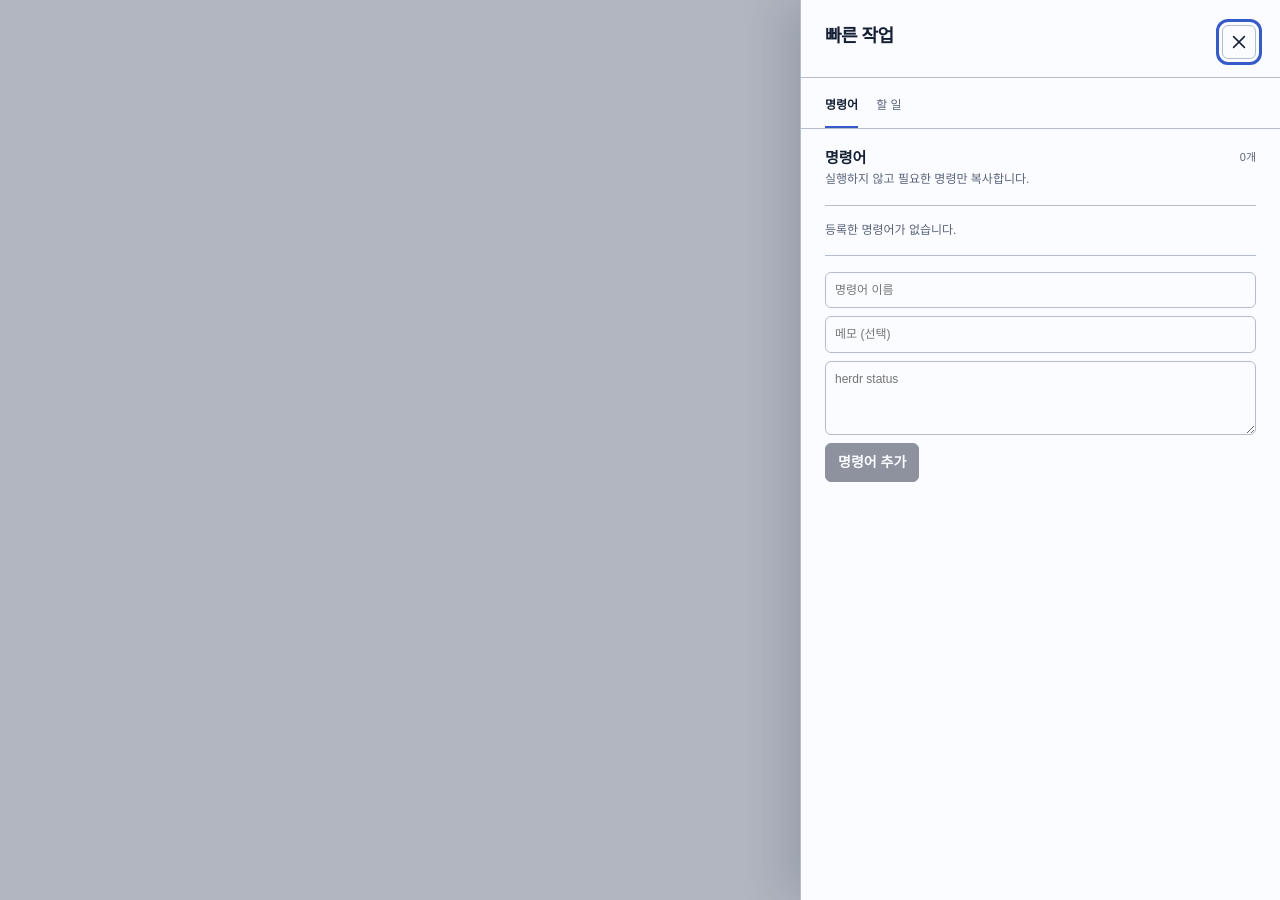
GlobalToolboxDrawer › preserves draft input and committed data when save fails
Type "보존할 초안" into the field labelled "명령어 이름" at (1040, 290), box [825,272,1256,308]
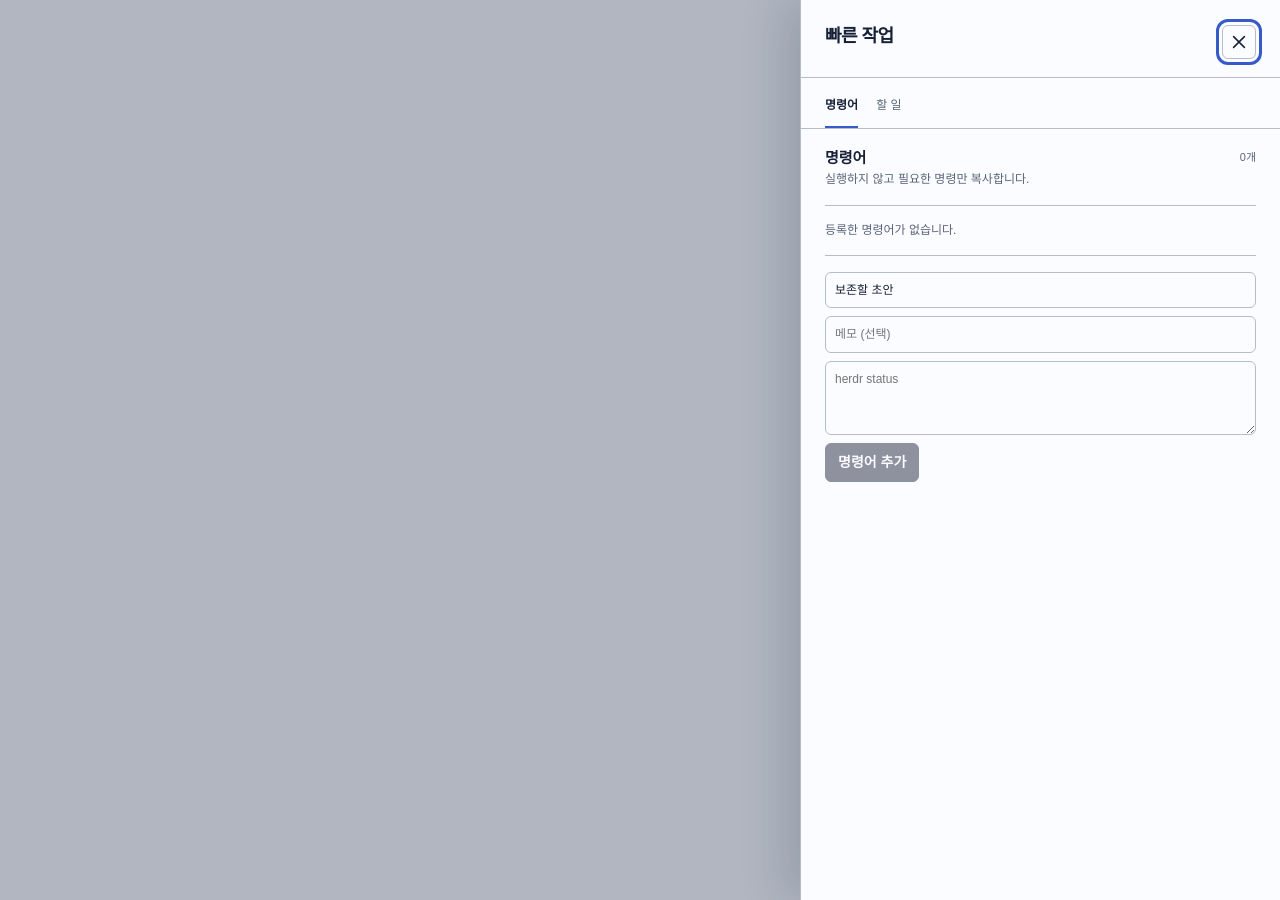
Type "echo keep" into the text box named "명령어 내용" at (1040, 398), box [825,361,1256,434]
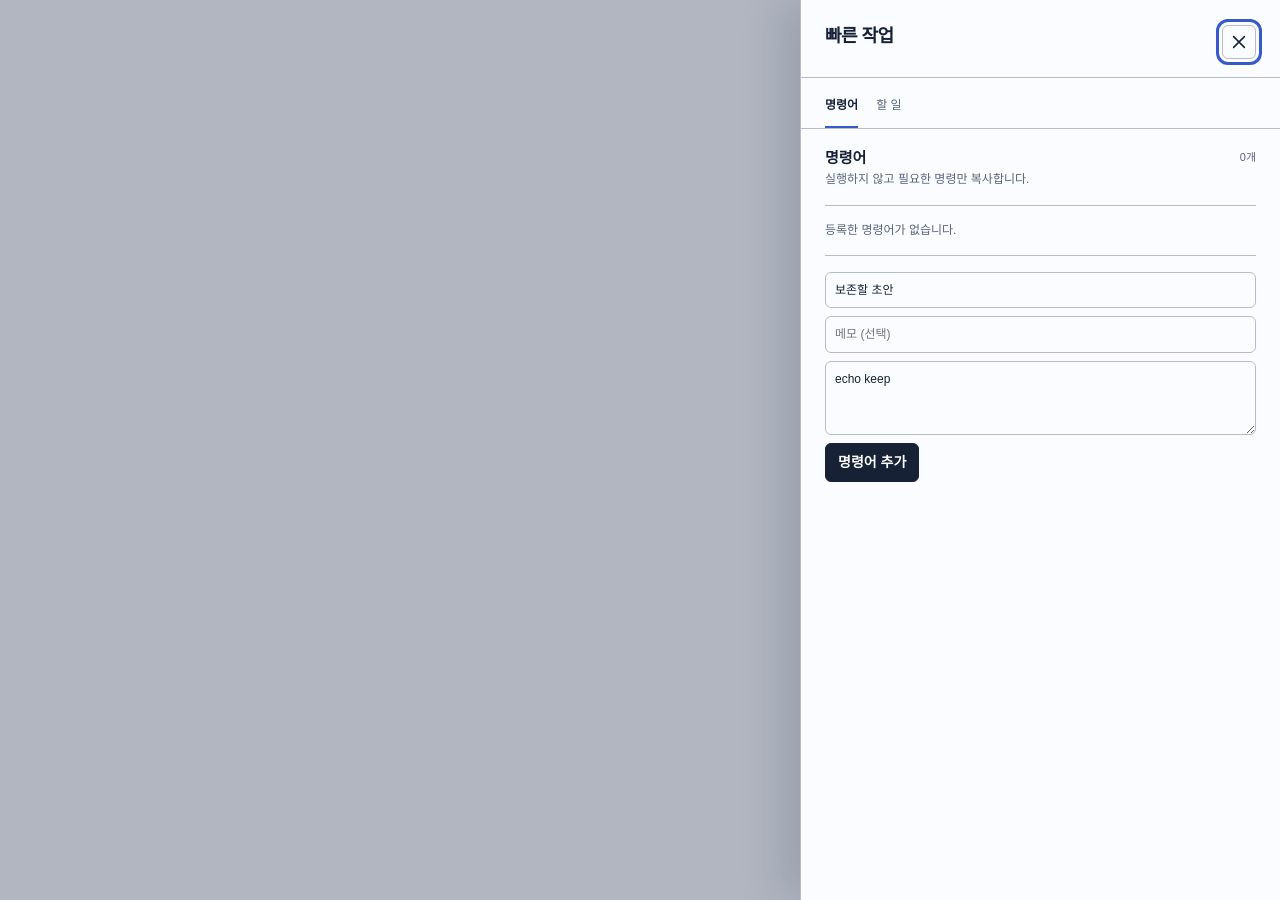
Click the button "명령어 추가" at (872, 462), box [825,442,919,482]
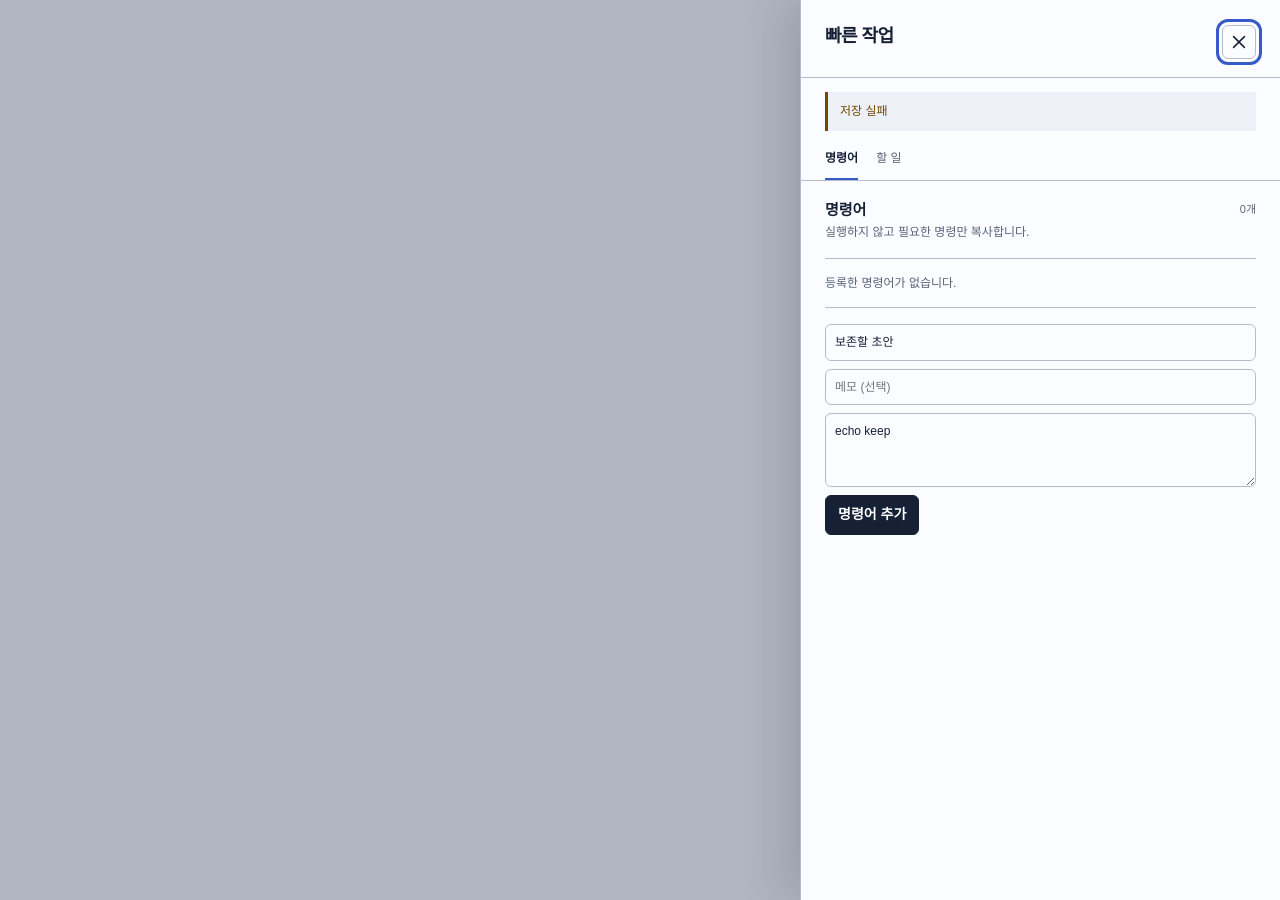
expect the message reads "저장 실패": met, box [840,104,888,118]
